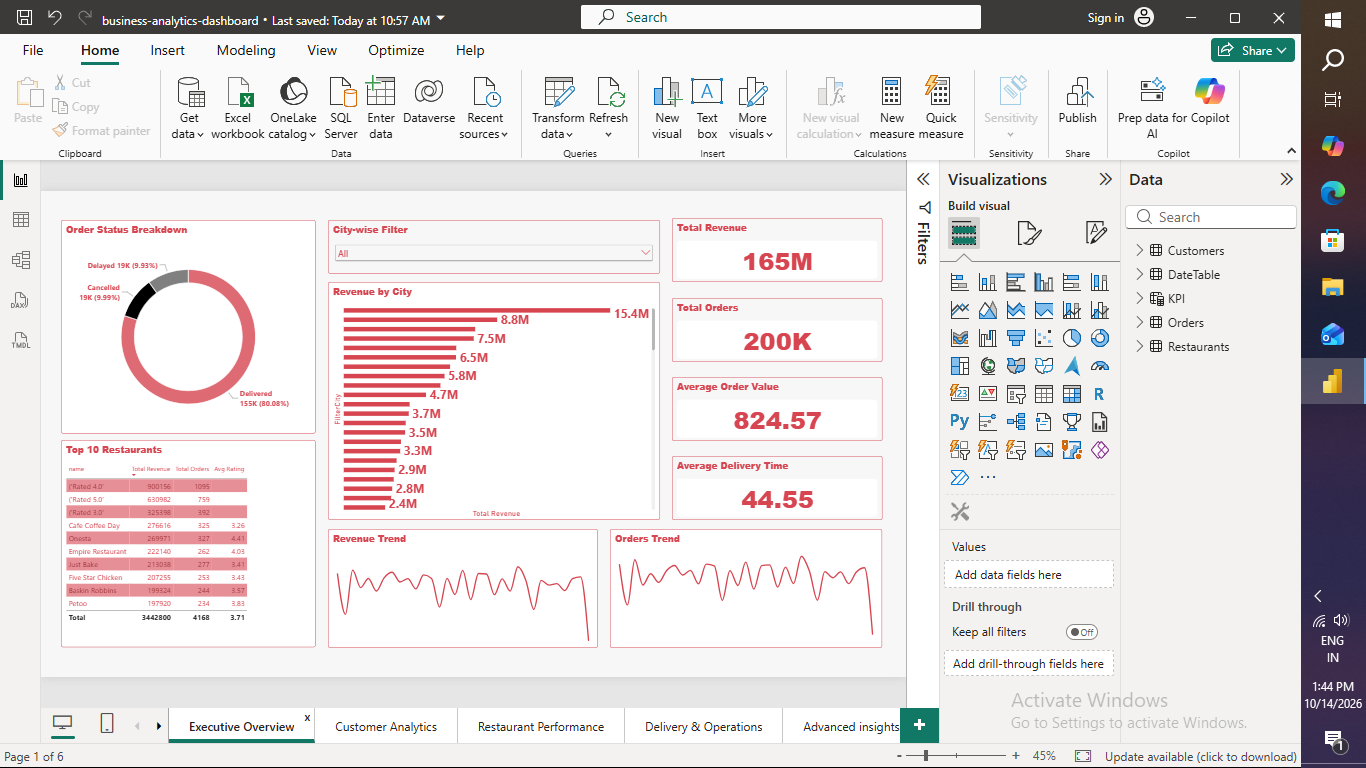

The dashboard page shown, as its layout file describes it:
{"tool":"powerbi","page":{"name":"Executive Overview","canvas":[1920,1080],"ordinal":0},"visuals":[{"type":"cardVisual","title":"Total Revenue","fields":{"Data":["Orders.Total Revenue"]},"box":[1400,60.5,467.4,141.9],"z":0},{"type":"cardVisual","title":"Total Orders","fields":{"Data":["Orders.Total Orders"]},"box":[1400,236.4,467.4,141.9],"z":1000},{"type":"cardVisual","title":"Average Order Value","fields":{"Data":["Orders.Avg Order Value"]},"box":[1400,412.4,467.4,141.9],"z":2000},{"type":"cardVisual","title":"Average Delivery Time","fields":{"Data":["Orders.Avg Delivery Time"]},"box":[1400,588.4,467.4,141.9],"z":3000},{"type":"lineChart","title":"Revenue Trend","fields":{"Category":["DateTable.Date.Variation.Date Hierarchy.Year","DateTable.Date.Variation.Date Hierarchy.Month"],"Y":["Orders.Total Revenue"]},"box":[637,750.2,599.3,264.1],"z":4000},{"type":"lineChart","title":"Orders Trend","fields":{"Category":["DateTable.Date.Variation.Date Hierarchy.Year","DateTable.Date.Variation.Date Hierarchy.Month"],"Y":["Orders.Total Orders"]},"box":[1263,750.2,603.7,264.1],"z":5000},{"type":"barChart","title":"Revenue by City","fields":{"Category":["Customers.FilterCity"],"Y":["Orders.Total Revenue"]},"box":[637.2,202.3,737.2,527.9],"z":6000},{"type":"donutChart","title":"Order Status Breakdown","fields":{"Category":["Orders.OrderStatus"],"Y":["Orders.Total Orders"]},"box":[44.2,65.1,565.1,474.4],"z":7000},{"type":"tableEx","title":"Top 10 Restaurants","fields":{"Values":["Restaurants.name","Orders.Total Revenue","Orders.Total Orders","Orders.Avg Rating"]},"box":[44.2,553.5,565.1,460.5],"z":8000},{"type":"slicer","title":"City-wise Filter","fields":{"Values":["Customers.FilterCity"]},"box":[637.2,65.1,737.2,118.6],"z":8001}]}

Visuals, with their boxes on the page's 1920x1080 design canvas (x1, y1, x2, y2). These are canvas units, not pixel positions in the 1366x768 screenshot, which may show the page scaled, cropped or inside an application window:
"Total Revenue" cardVisual: 1400, 60, 1867, 202
"Total Orders" cardVisual: 1400, 236, 1867, 378
"Average Order Value" cardVisual: 1400, 412, 1867, 554
"Average Delivery Time" cardVisual: 1400, 588, 1867, 730
"Revenue Trend" lineChart: 637, 750, 1236, 1014
"Orders Trend" lineChart: 1263, 750, 1867, 1014
"Revenue by City" barChart: 637, 202, 1374, 730
"Order Status Breakdown" donutChart: 44, 65, 609, 540
"Top 10 Restaurants" tableEx: 44, 554, 609, 1014
"City-wise Filter" slicer: 637, 65, 1374, 184
